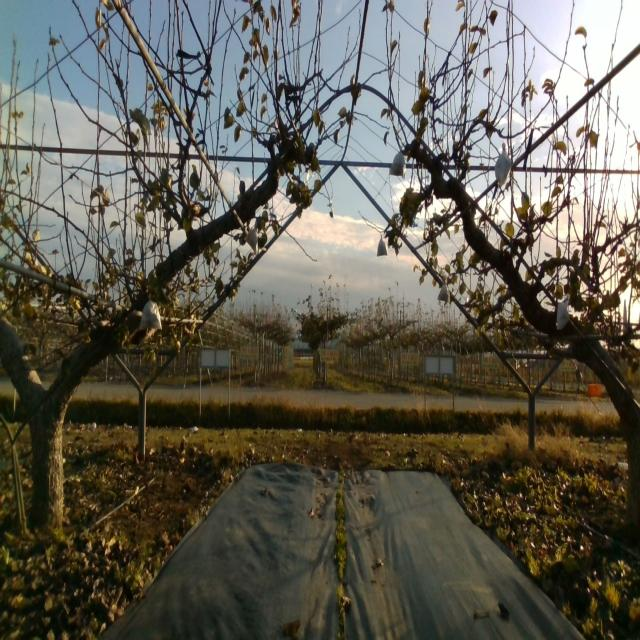pearbags: (138, 295, 162, 332), (494, 144, 511, 188), (557, 292, 570, 333), (389, 149, 407, 178), (244, 226, 260, 253), (436, 284, 451, 302), (377, 234, 388, 258)
